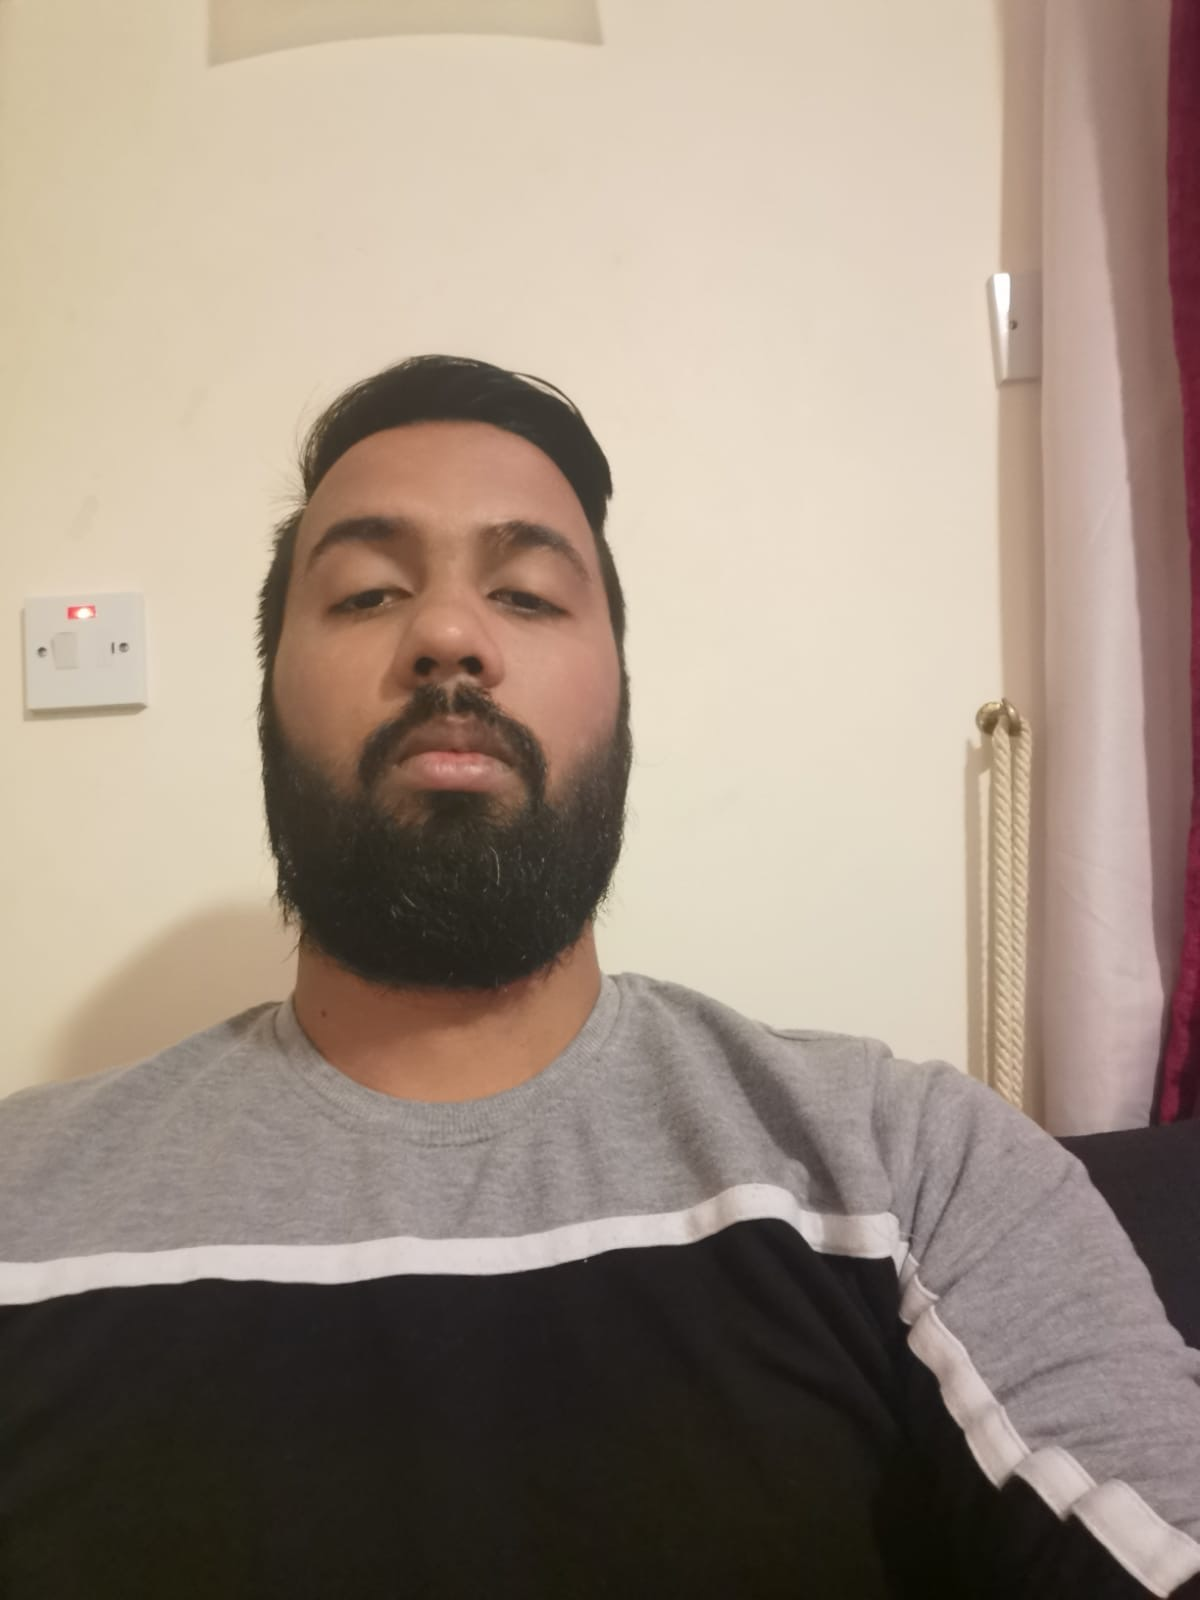Half Asleep: (287, 532, 597, 632)
